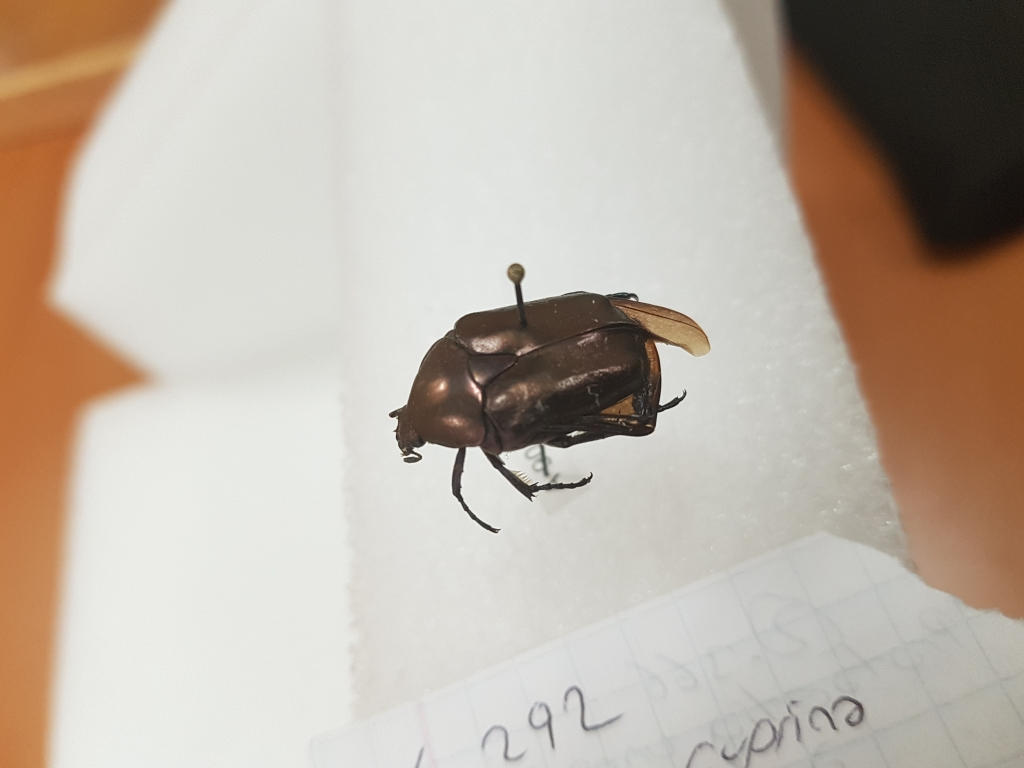Protaetia_cuprina_cuprina: (382, 280, 731, 535)
